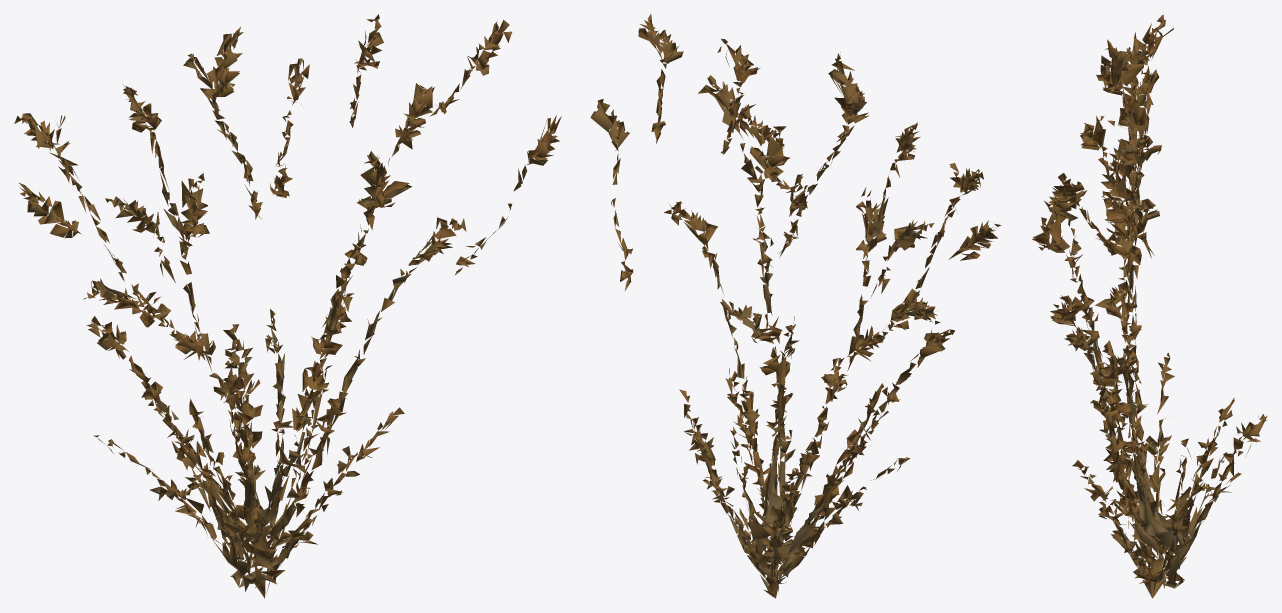
File: ocotillo.glb
3 views of the same model, side by side, from view 1: azimuth 30°, elevation 25°; view 2: azimuth 150°, elevation 25°; view 3: azimuth 270°, elevation 25° (orthographic). The views are drawn at different scales.
Visible parts, largest first — view 1: LO.001; view 2: LO.001; view 3: LO.001.
Boxes of the visible parts, x1=… form: LO.001: x1=14, y1=14, x2=561, y2=598; LO.001: x1=590, y1=14, x2=1001, y2=598; LO.001: x1=1032, y1=14, x2=1267, y2=598.
Bounding box in the file's own units: 0.8422 × 0.9727 × 0.3871.
1 material, 1 textured.
